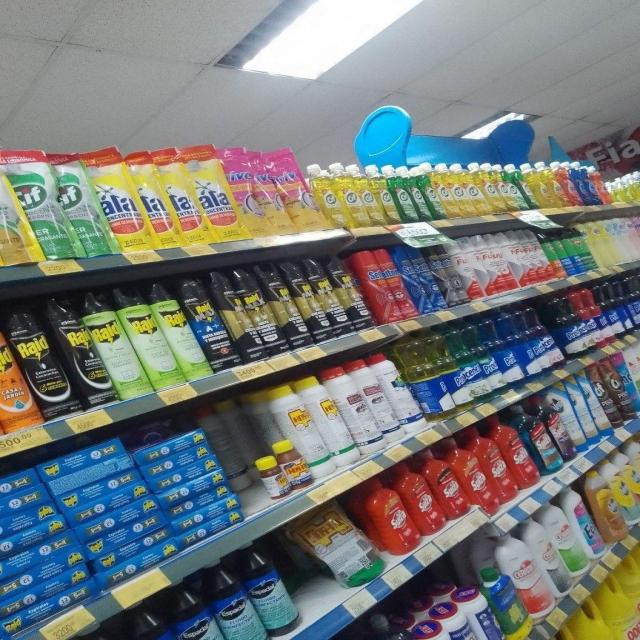ala_conc_rojo: (368, 472, 411, 556), (409, 462, 439, 536), (437, 447, 464, 522), (487, 428, 510, 508), (508, 421, 534, 490)
ala_crem_amarillo: (592, 220, 609, 266)
ala_sachet_amarillo: (100, 149, 145, 252), (200, 146, 239, 242), (169, 146, 201, 246), (141, 148, 172, 248)
cif_conc_bot_amarilla: (315, 163, 340, 229), (340, 163, 361, 229)
cif_conc_botella_verde: (393, 165, 414, 223), (376, 165, 394, 225), (423, 164, 441, 220), (501, 163, 522, 211), (414, 165, 431, 222), (438, 163, 453, 219)
cif_conc_sachet_verde: (19, 150, 68, 261), (64, 151, 103, 257)
